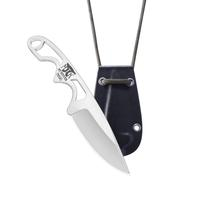knife: (22, 30, 135, 177)
